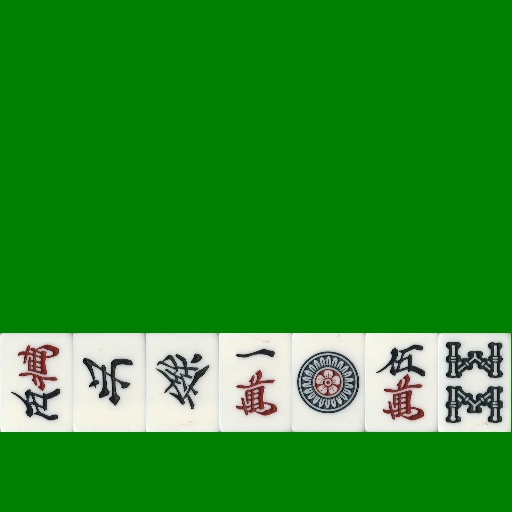1m: (219, 333, 292, 432)
1p: (292, 333, 365, 432)
5m: (0, 333, 73, 432), (365, 333, 438, 432)
8s: (438, 333, 511, 432)
hatsu: (146, 333, 219, 432)
north: (73, 333, 146, 432)
